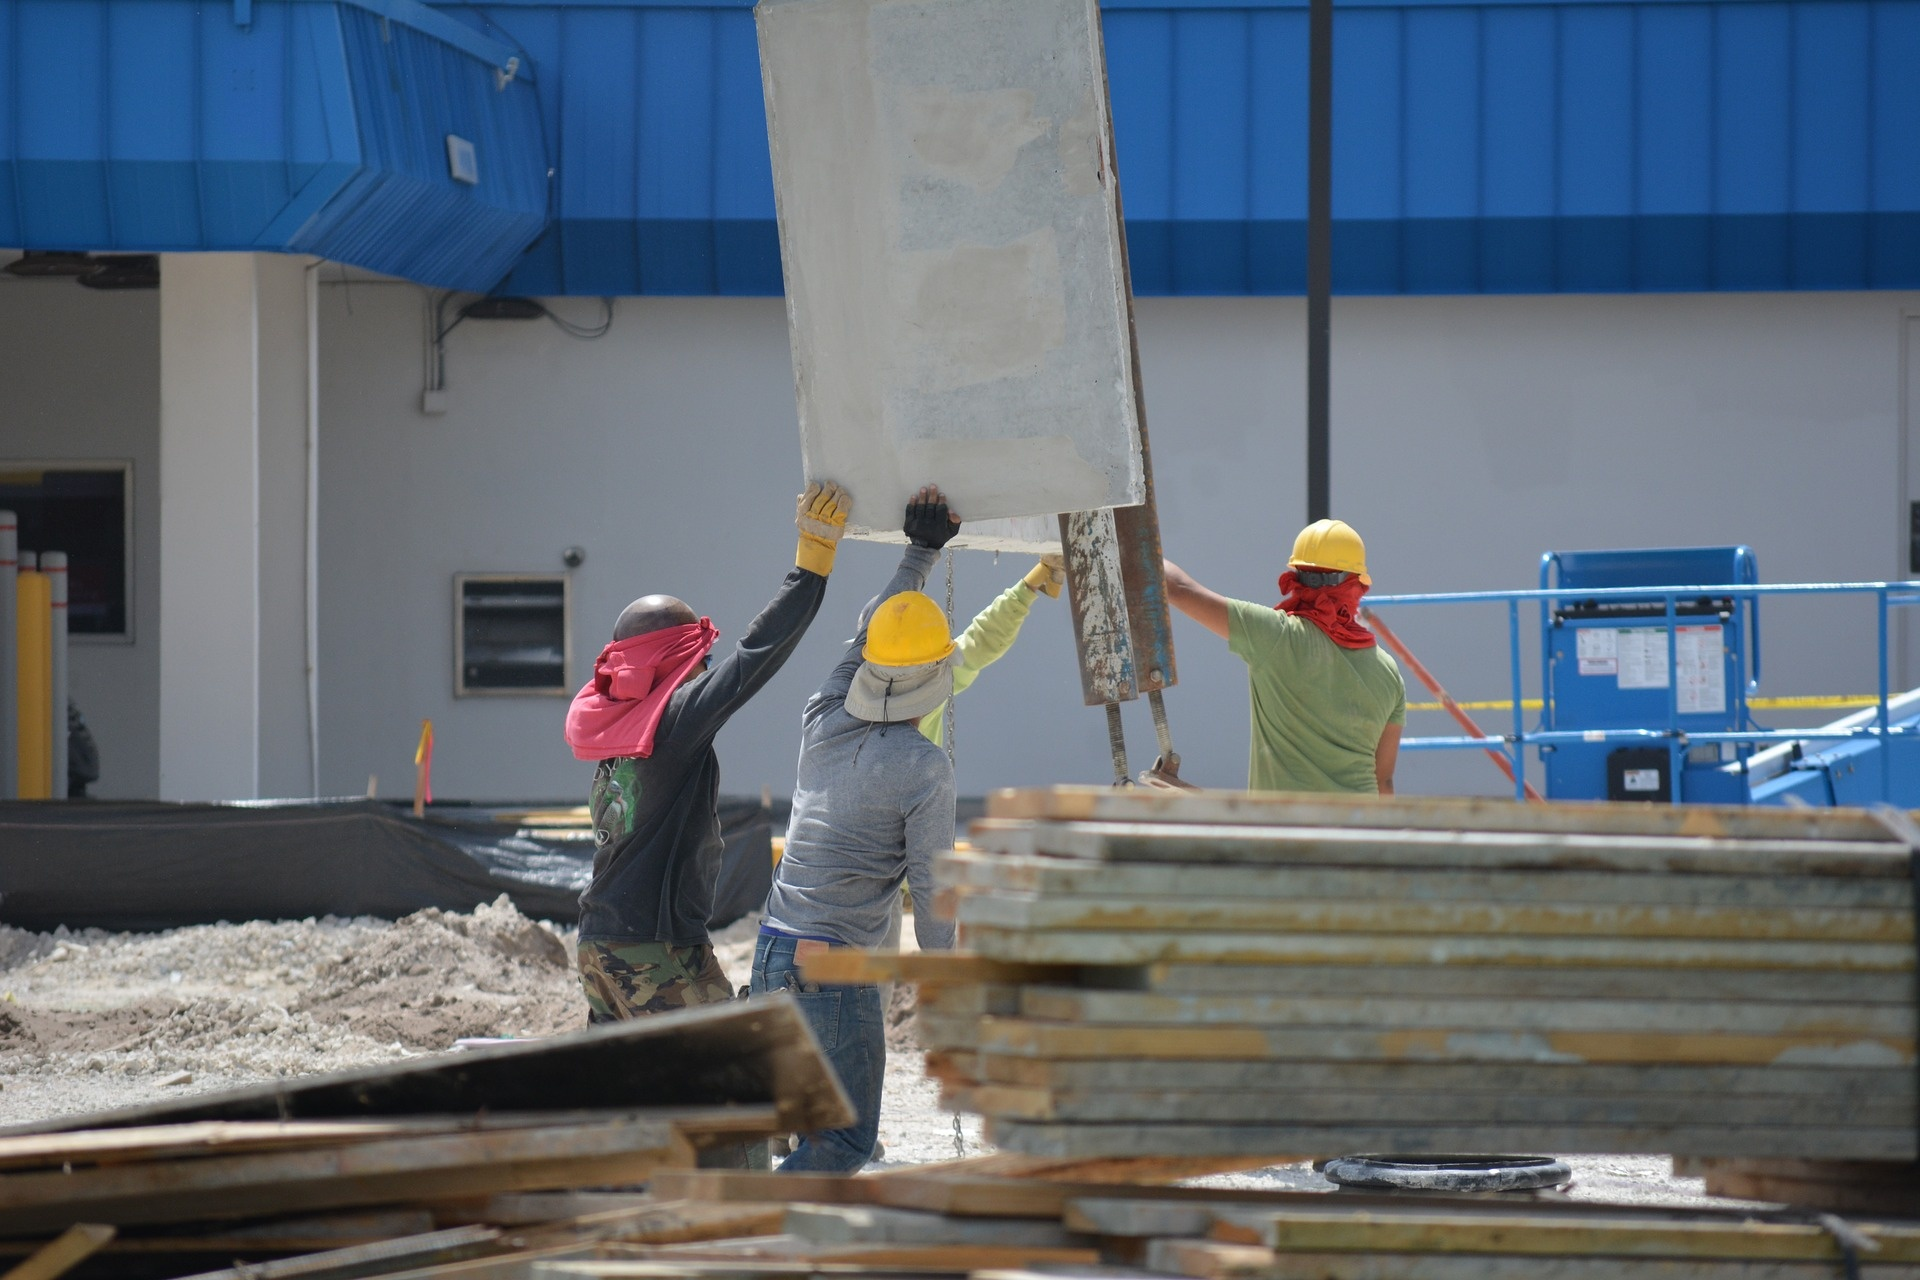yellow: (846, 586, 959, 706), (1277, 517, 1374, 616)
